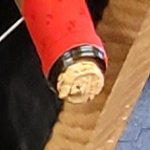bottle: (27, 34, 132, 118)
